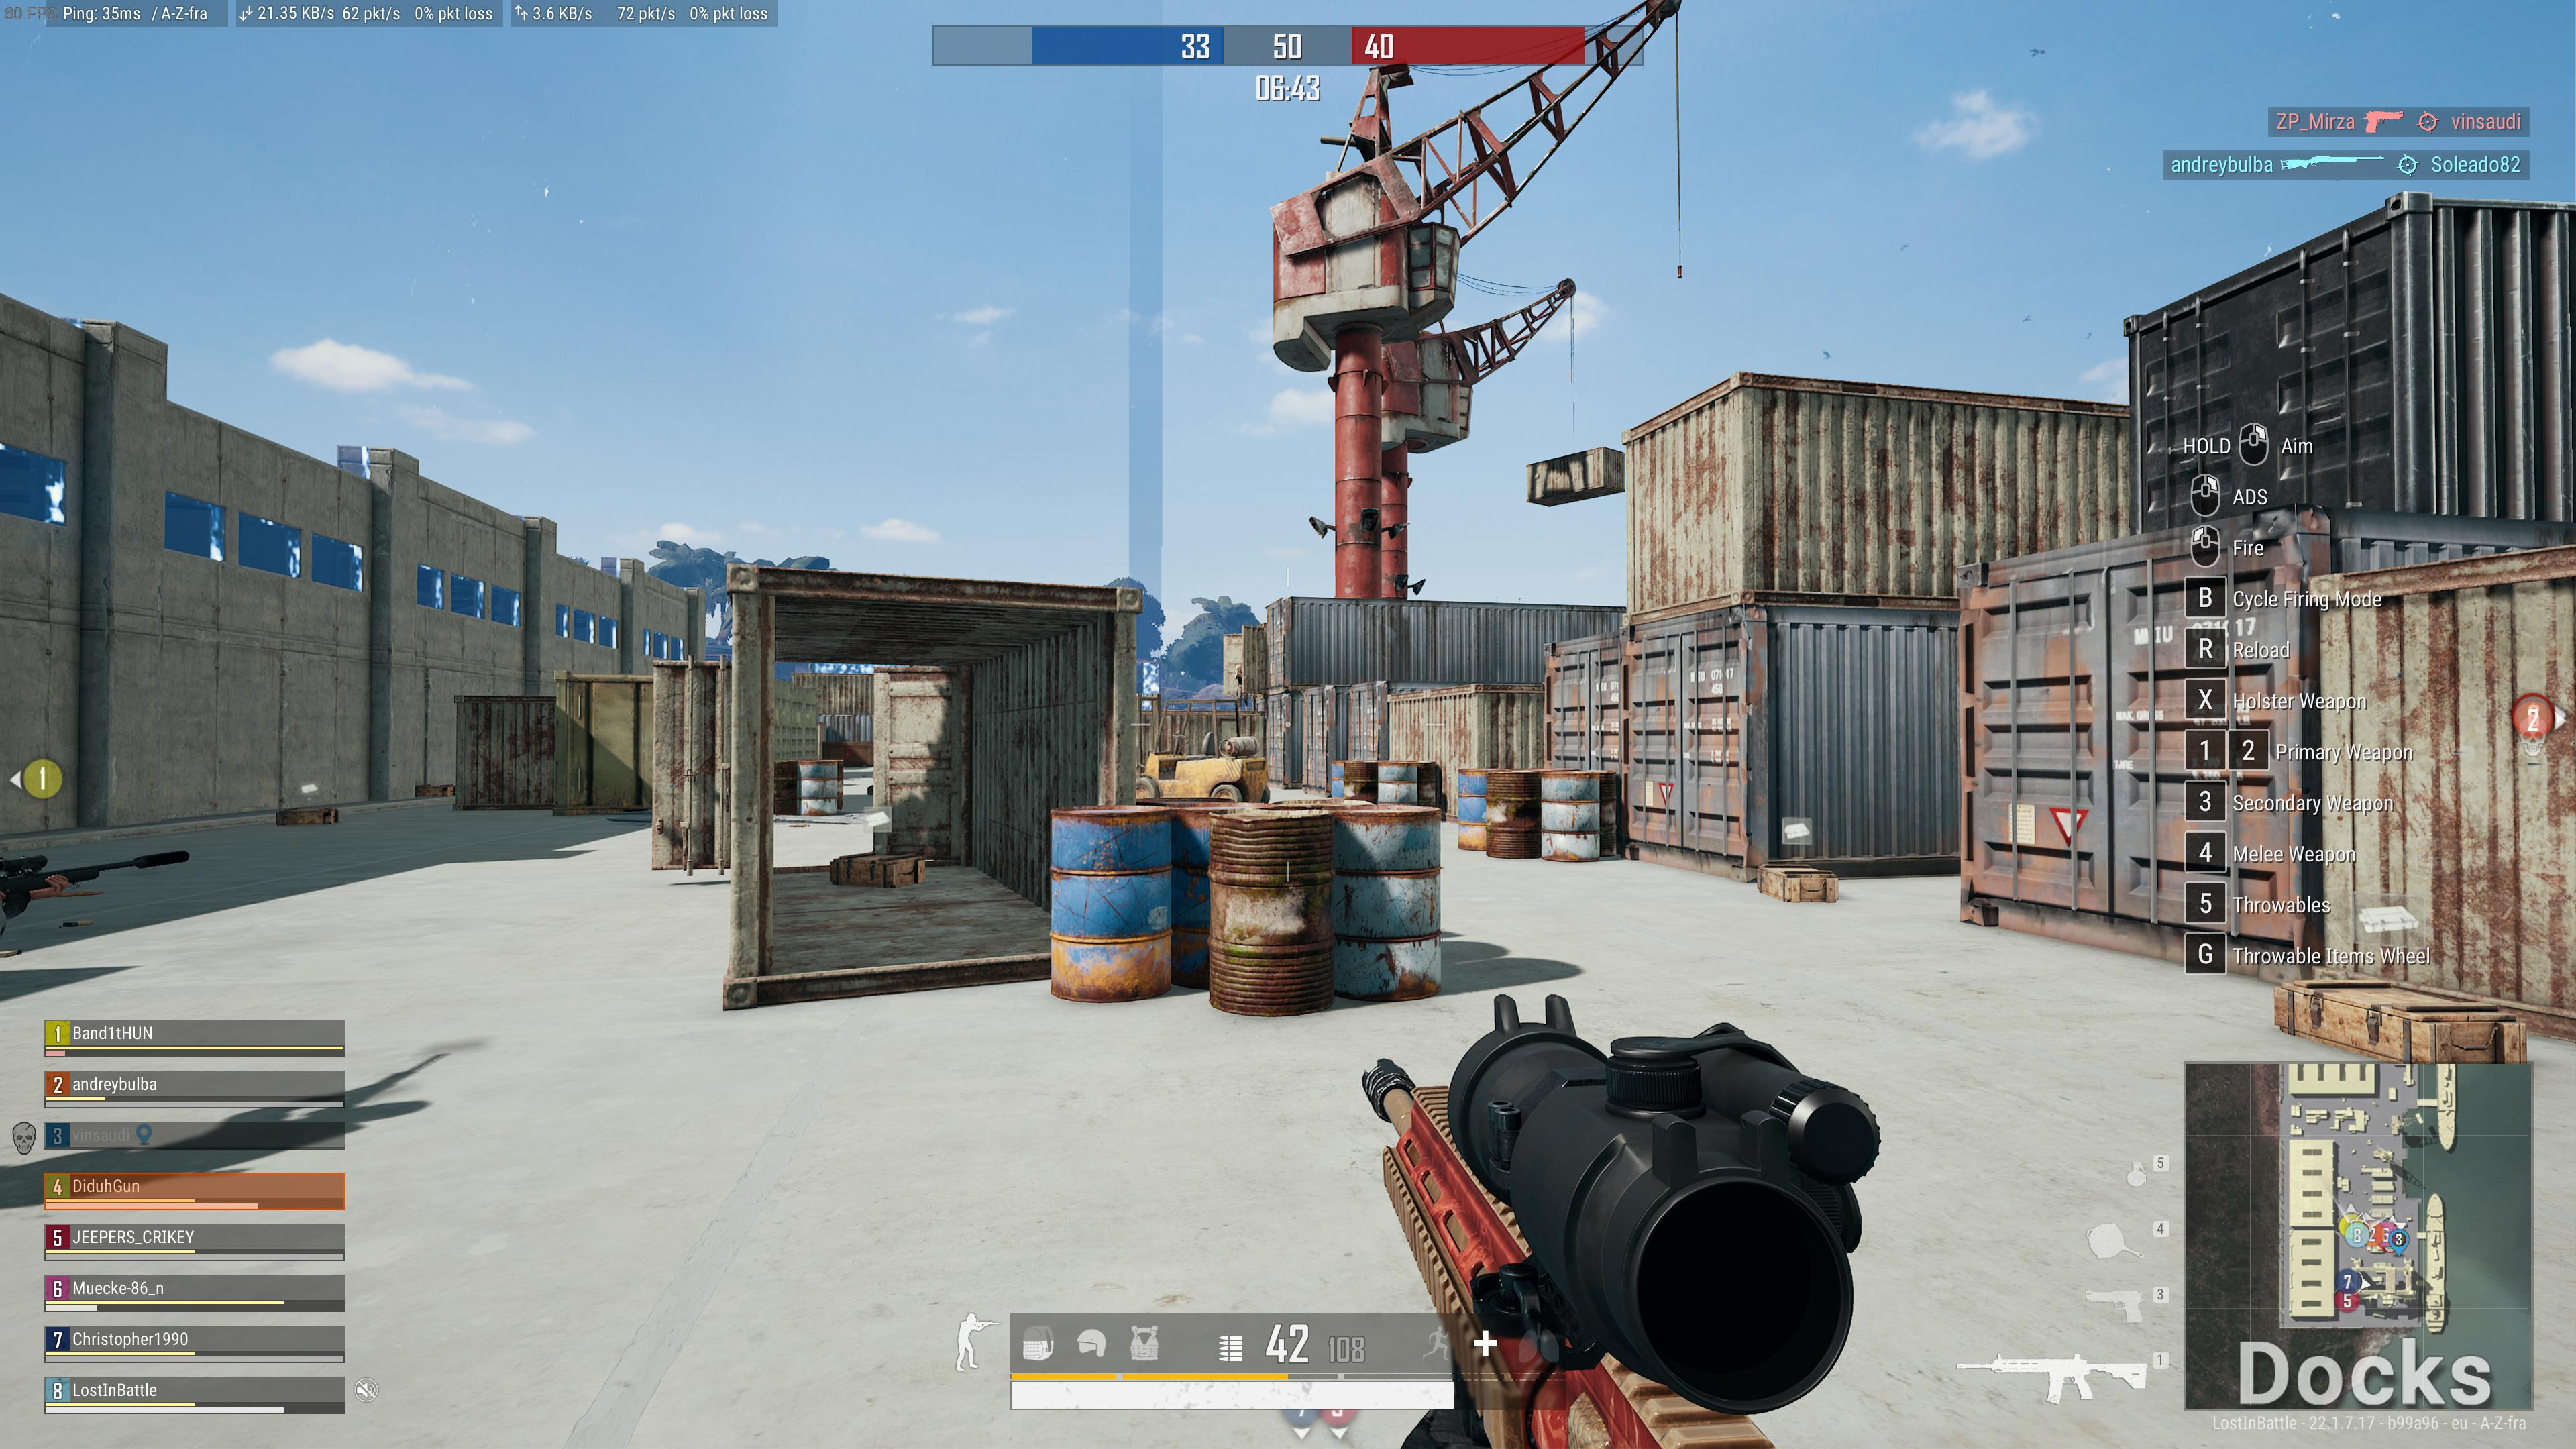enemy: (1233, 663, 1247, 711)
enemy_head: (1235, 663, 1240, 672)
